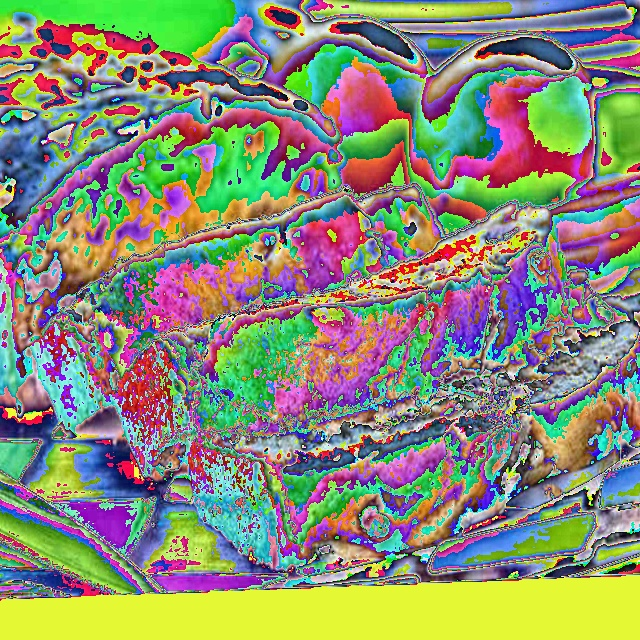background: (0, 14, 640, 575)
